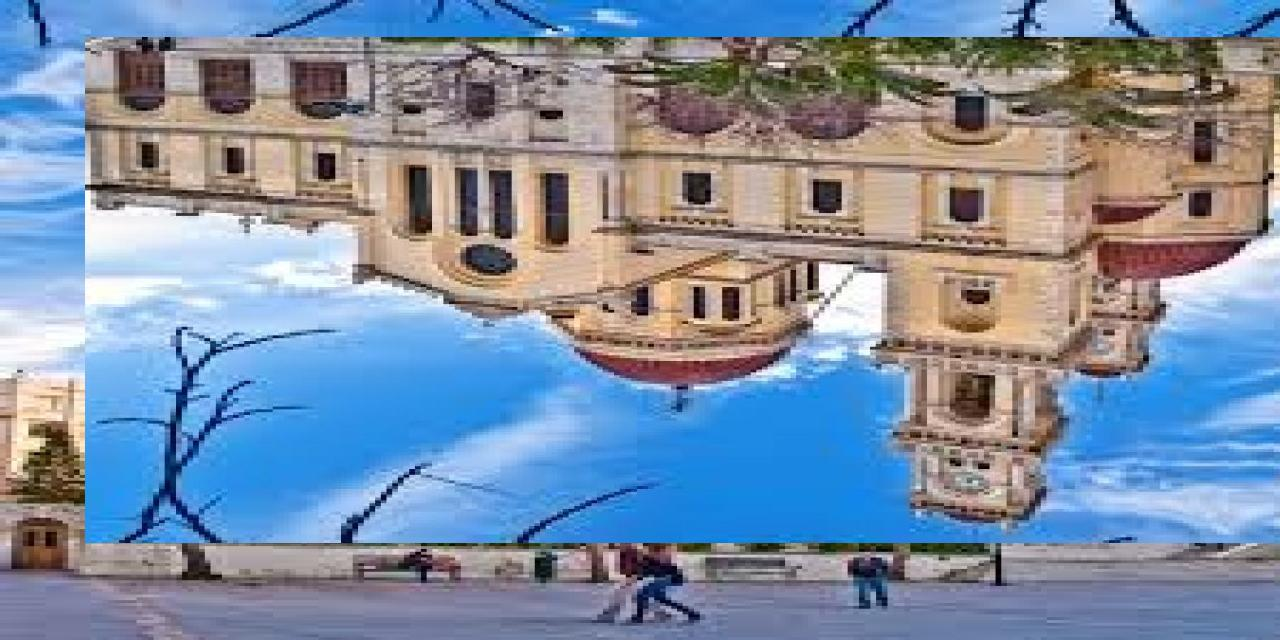Agios Minas: (86, 38, 1280, 544)
